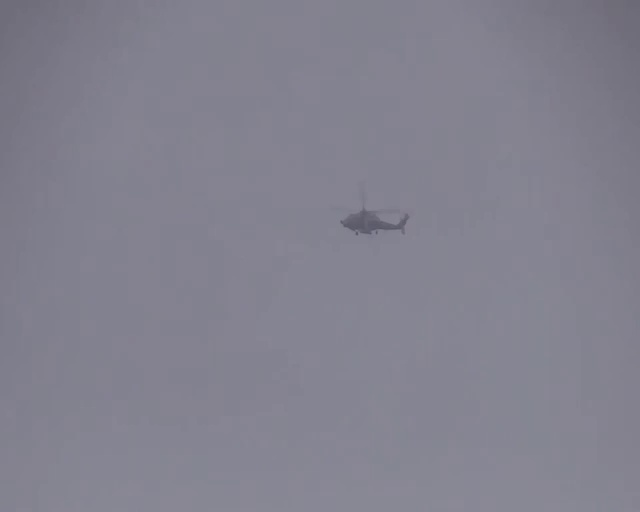HELICOPTER: (336, 181, 410, 236)
